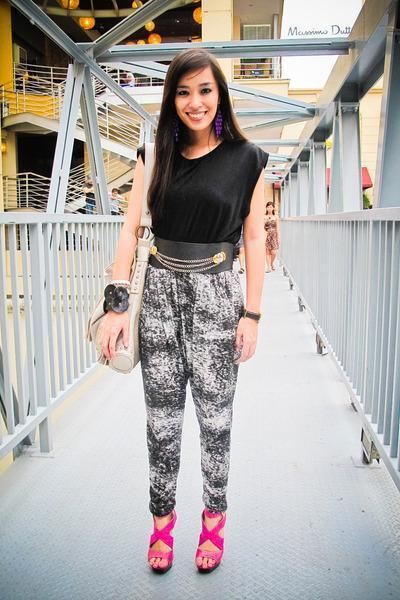bag: (98, 230, 158, 371)
pants: (133, 252, 251, 518)
shirt: (147, 132, 268, 275)
shoe: (148, 508, 225, 575)
